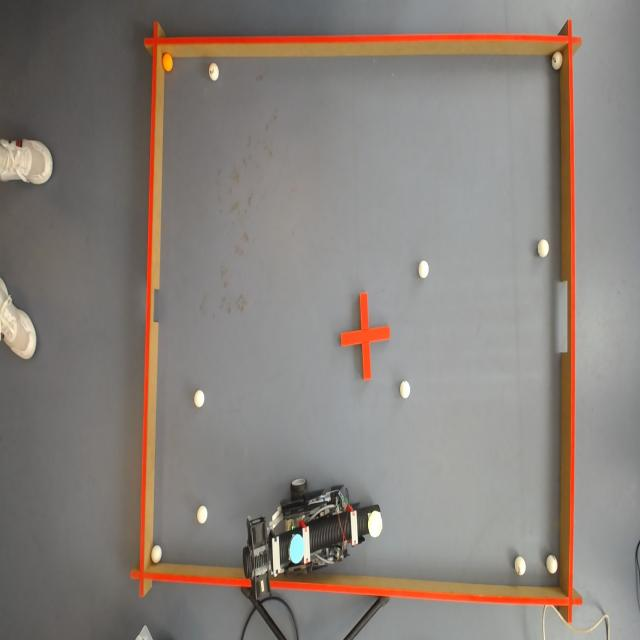orange: (162, 53, 176, 72)
robot: (243, 474, 383, 610)
robot-front: (367, 513, 384, 538)
robot-rear: (288, 533, 306, 563)
white: (547, 553, 561, 573), (515, 555, 527, 576), (152, 545, 164, 565), (551, 51, 563, 70), (196, 506, 208, 524), (539, 238, 551, 256), (400, 381, 412, 398), (195, 391, 206, 409), (208, 64, 220, 80), (419, 262, 429, 278)
